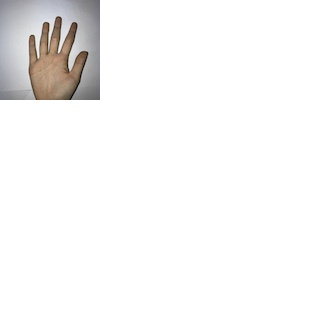paper: (23, 13, 88, 99)
